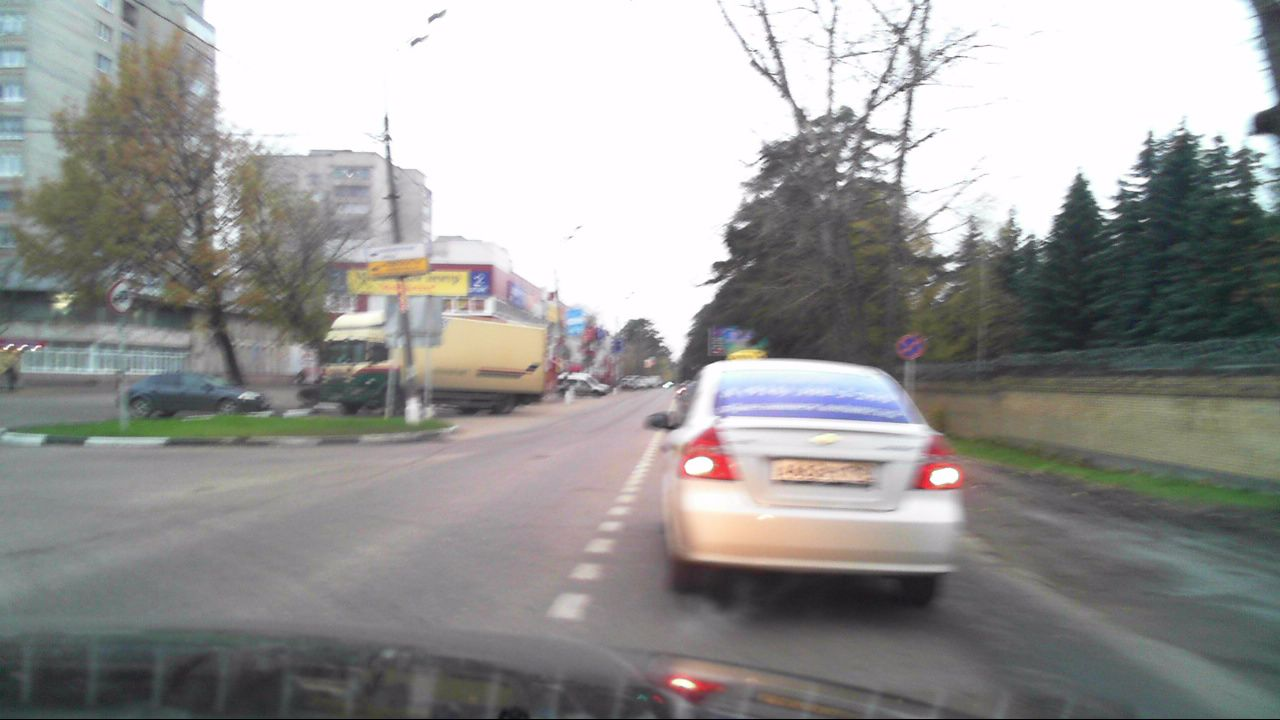No Parking: (895, 335, 921, 359)
